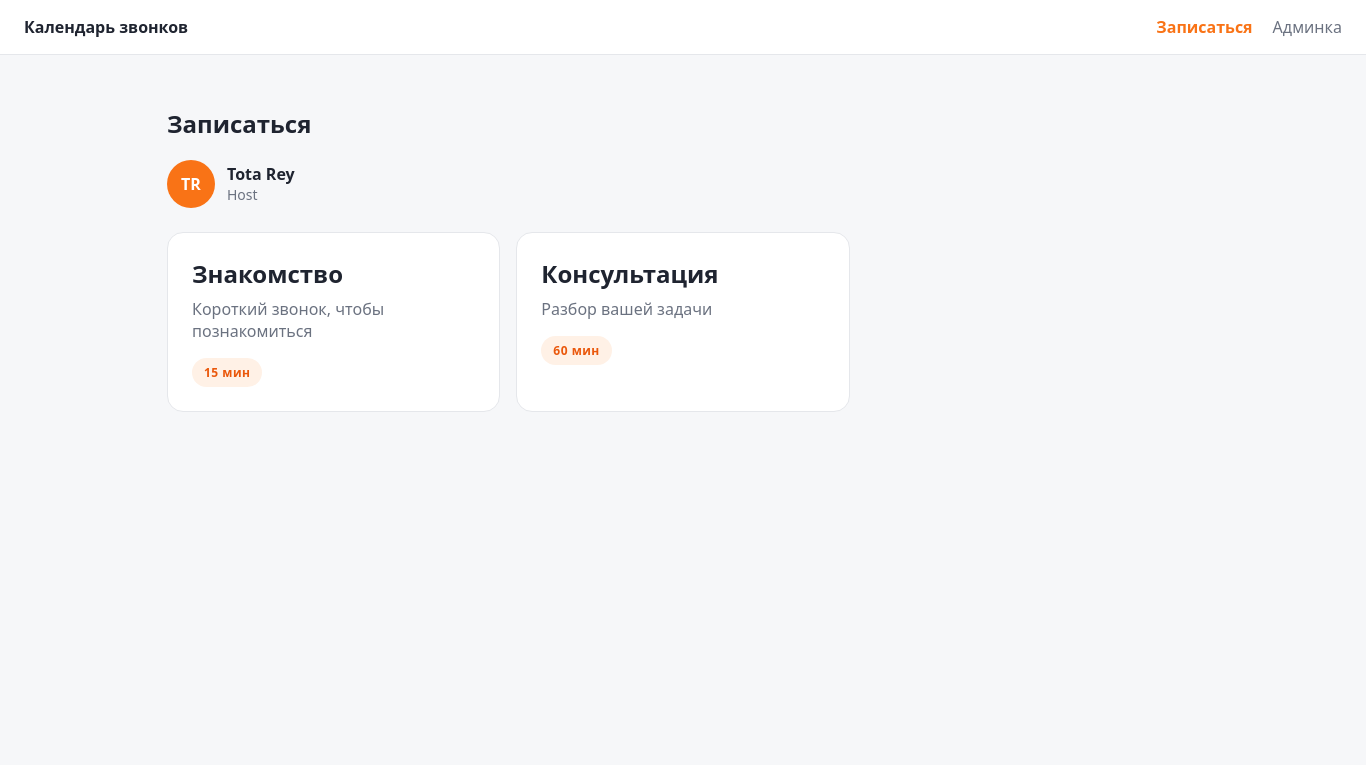
App › catalog › opens the time selection for the clicked event type
Step 1. Click the link "Знакомство Короткий звонок, чтобы познакомиться 15 мин" → (334, 322), box [167, 232, 500, 412]
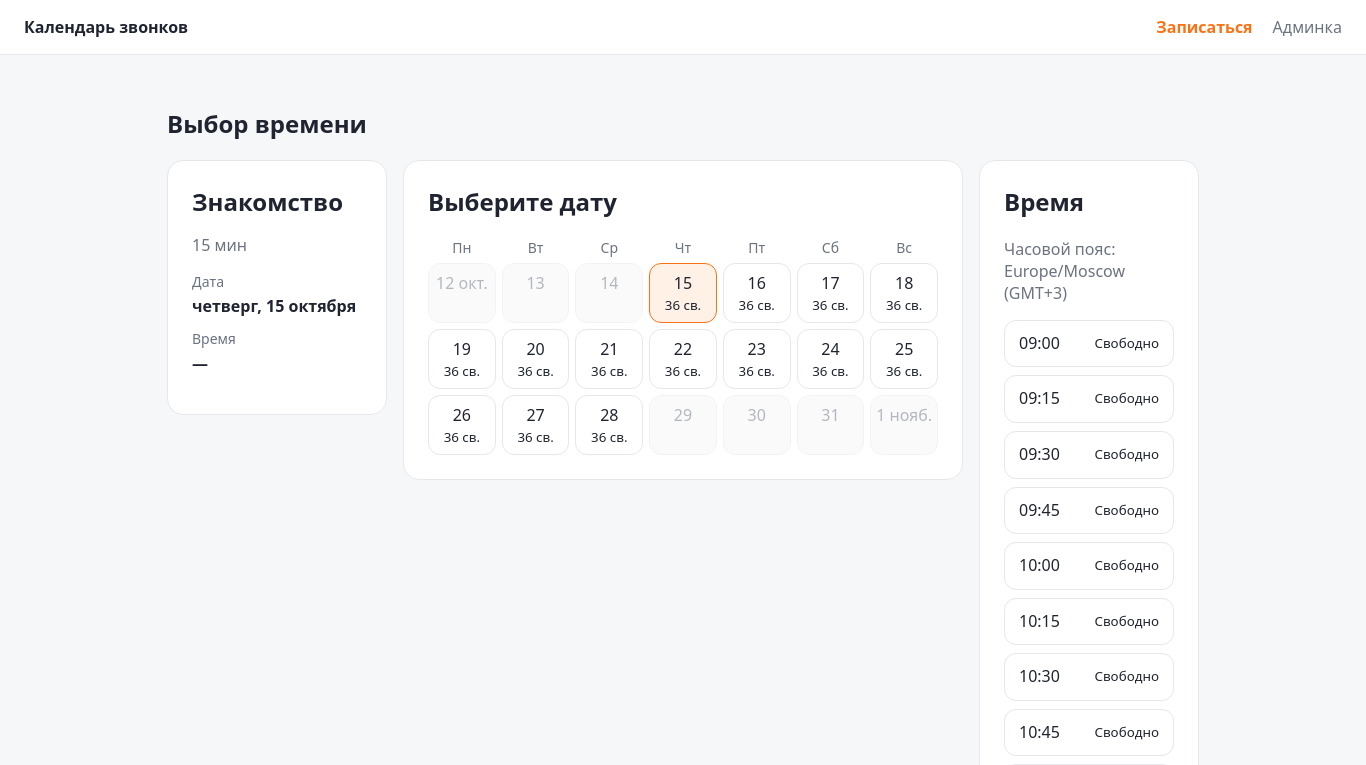
Check: the heading "Выбор времени" is shown, box [167, 107, 367, 140]
